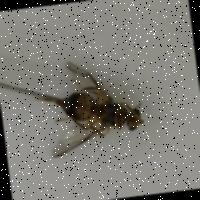Oriental-fruit-fly: (24, 36, 152, 168)
